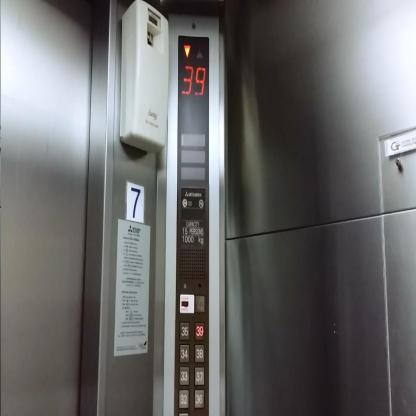32: (177, 388, 190, 410)
33: (178, 364, 190, 386)
34: (178, 342, 190, 363)
35: (178, 320, 190, 340)
36: (193, 387, 205, 409)
37: (193, 364, 205, 386)
38: (194, 342, 206, 363)
39: (193, 320, 206, 342)
alarm: (194, 293, 206, 313)
led: (180, 39, 208, 99)
